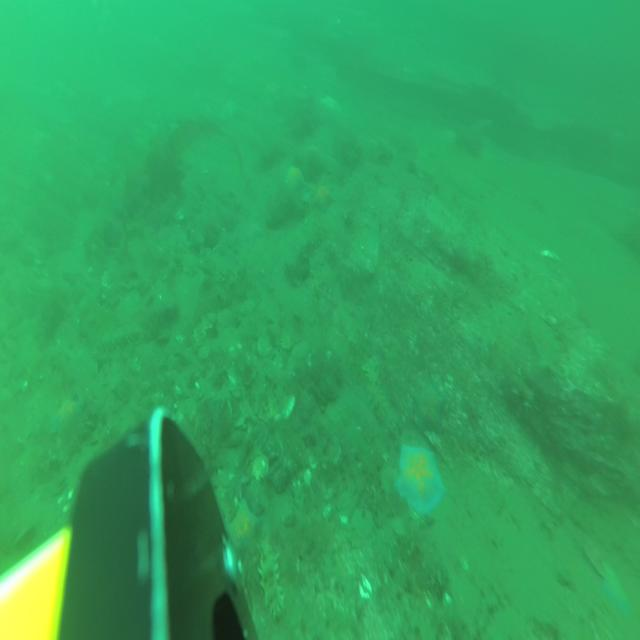holothurian: (366, 363, 398, 433), (257, 540, 285, 619), (96, 323, 142, 349), (300, 227, 325, 260)
scallop: (257, 334, 273, 357), (239, 298, 256, 316), (217, 308, 232, 328)
starfish: (395, 444, 445, 520), (226, 496, 259, 556), (413, 382, 447, 435), (50, 399, 84, 451), (313, 183, 335, 211), (285, 164, 305, 194)
